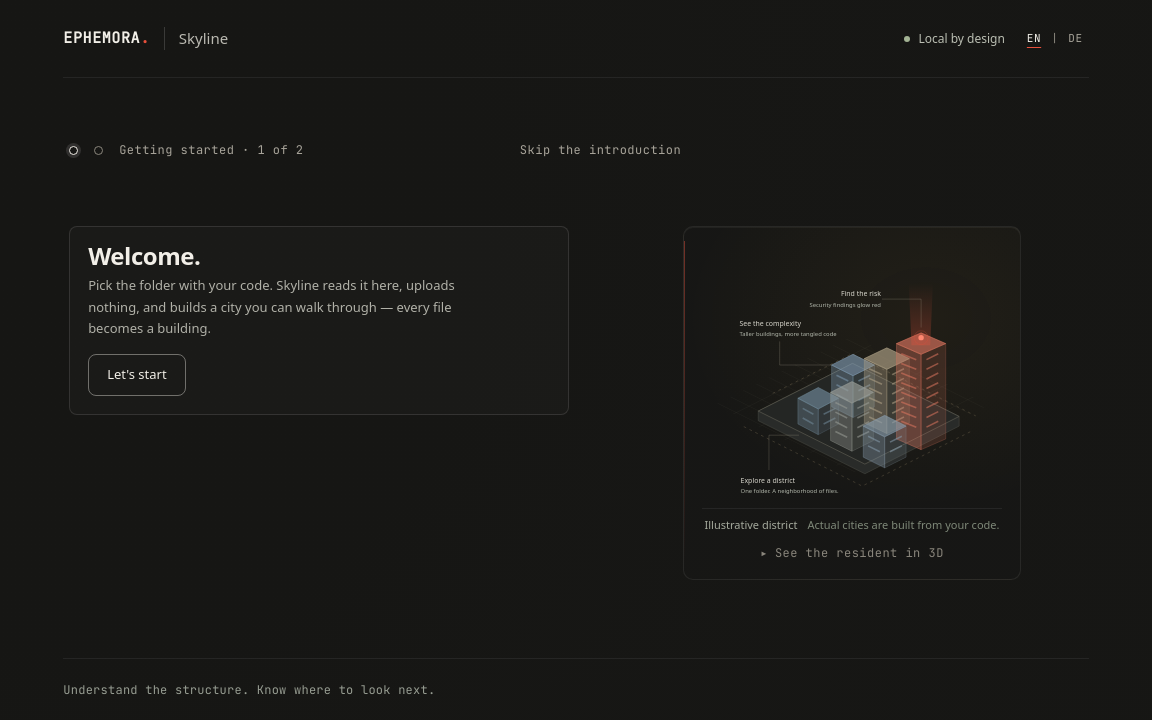
Test case: the introduction navigates: back, next, skip (§03.07) › Continue ends the introduction and leaves the plain landing
Click the button with class "landing-welcome-begin" at (137, 375), box [88,354,186,396]
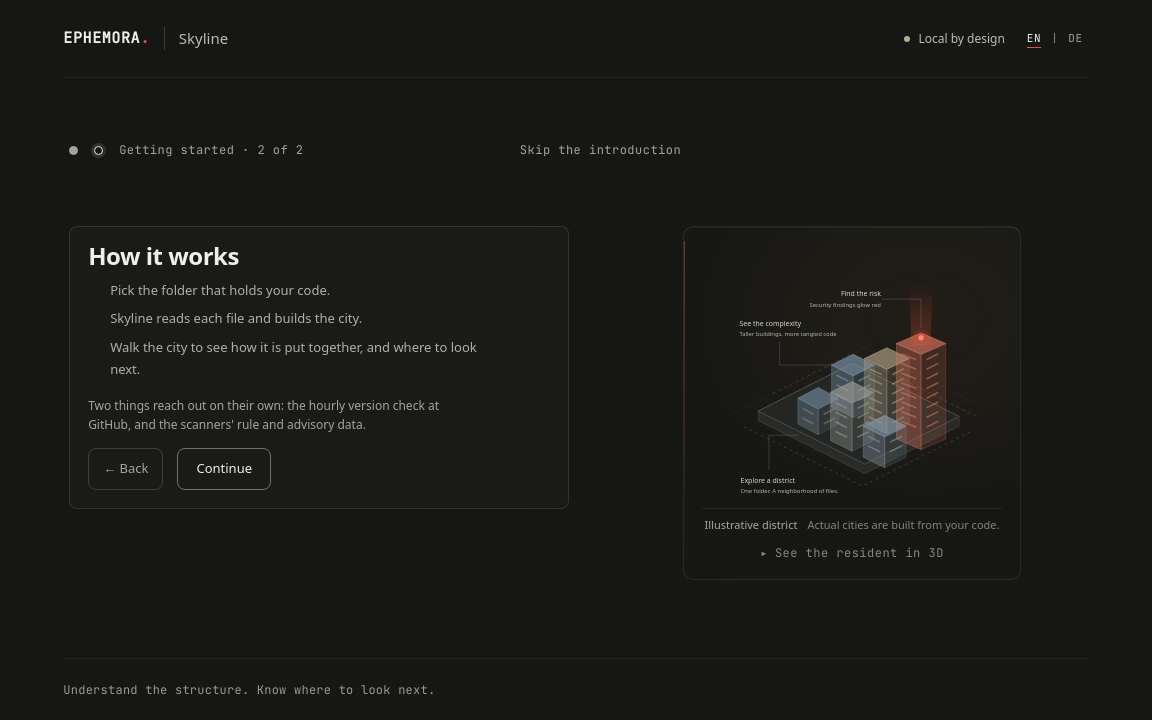
Click the button "Continue" at (224, 469), box [178,448,271,490]
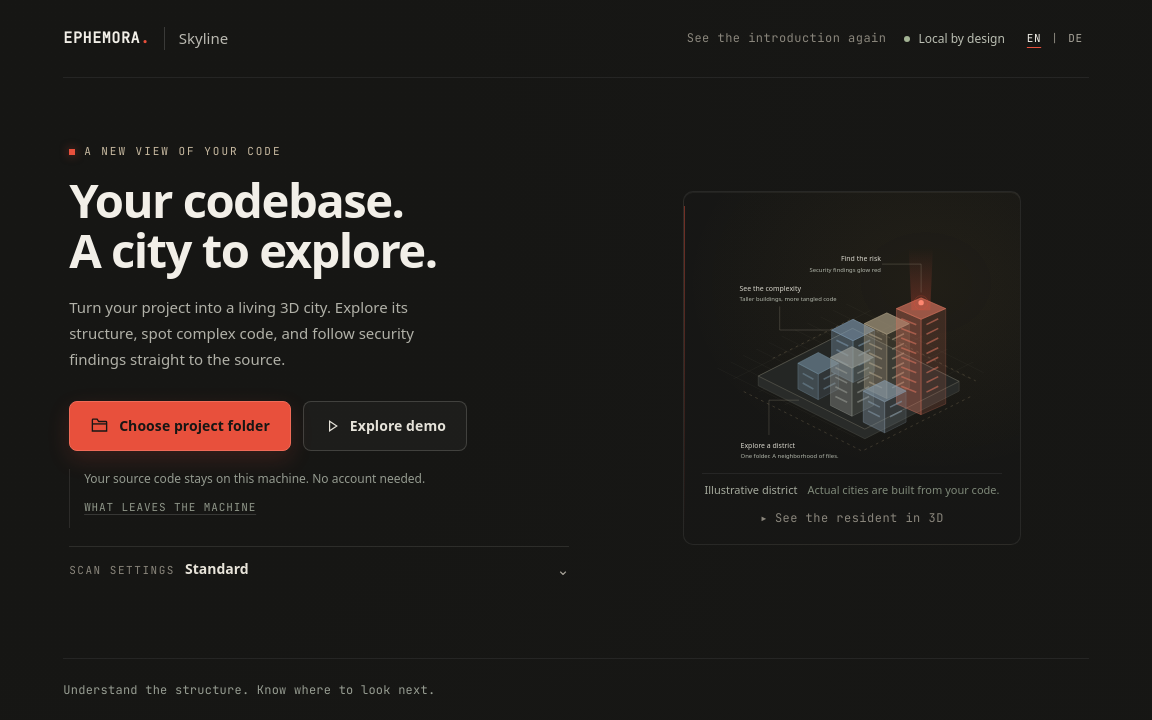
Result: the element with class "landing-guide" is gone
Result: the navigation bar with class "start-progress-steps" is gone
Result: the button "Choose project folder" is shown at [69,401,291,451]
